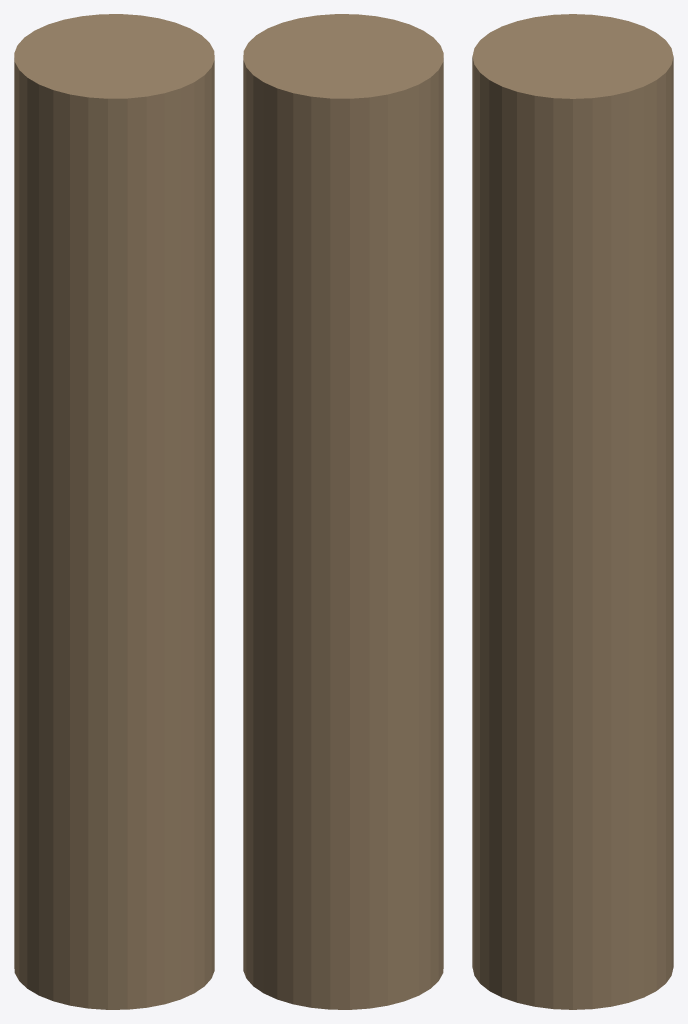
Rendered from maple_sapling.glb.
3 views of the same model, side by side, from view 1: azimuth 30°, elevation 25°; view 2: azimuth 150°, elevation 25°; view 3: azimuth 270°, elevation 25° (orthographic).
Visible parts, largest first — view 1: MapleSapling_Trunk; view 2: MapleSapling_Trunk; view 3: MapleSapling_Trunk.
Boxes of the visible parts, x1,y1,x2,y2 form: MapleSapling_Trunk: (14,14,214,1009); MapleSapling_Trunk: (243,14,443,1009); MapleSapling_Trunk: (472,14,673,1009).
Bounding box in the file's own units: 0.08 × 0.4 × 0.08.
